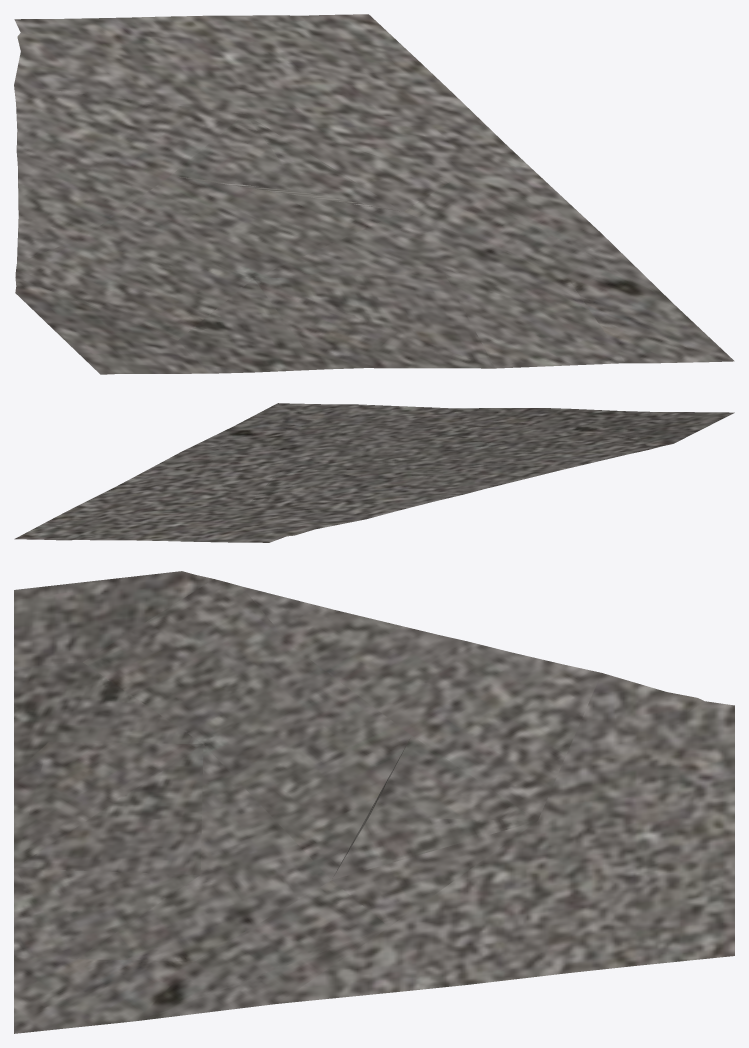
3 renders of one model, top to bottom at view 1: azimuth 30°, elevation 25°; view 2: azimuth 150°, elevation 25°; view 3: azimuth 270°, elevation 25°, orthographic. The views are drawn at different scales.
Bounding box in the file's own units: 0.8374 × 0.2027 × 0.8374.
Materials: 2 (2 with a texture image).
